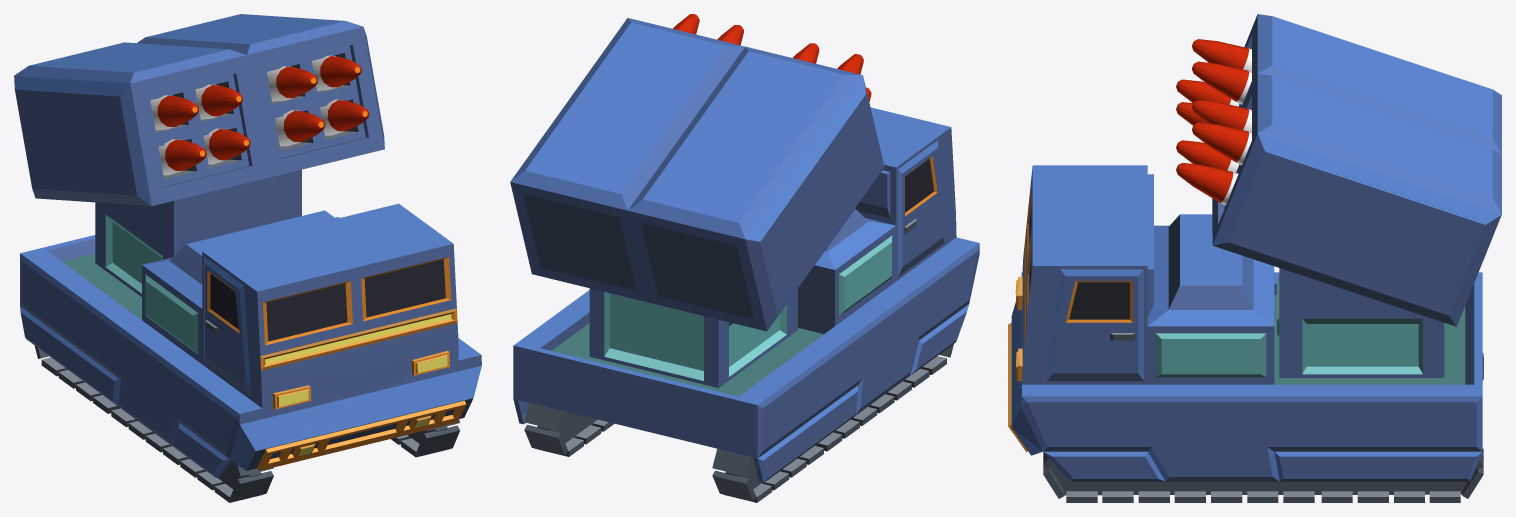
File: Missle_Vehicles1_ver2.fbx
3 renders of one model, left to right at view 1: azimuth 30°, elevation 25°; view 2: azimuth 150°, elevation 25°; view 3: azimuth 270°, elevation 25°, orthographic. The views are drawn at different scales.
Visible parts, largest first — view 1: Missle_Vehicles, Missle, Tie7, Tie, Missile4, Missile7, Missile5, Missile6, Missile8, Missile11, Missile9, Missile10; view 2: Missle, Missle_Vehicles, Tie7, Tie; view 3: Missle_Vehicles, Missle, Tie, Missile9, Missile5, Missile6, Missile4, Missile8, Missile7, Missile11.
Boxes of the visible parts, x1,y1,x2,y2 form: Missle_Vehicles: [20, 169, 481, 477]; Missle: [14, 14, 384, 206]; Tie7: [34, 345, 273, 502]; Tie: [391, 419, 460, 457]; Missile4: [267, 66, 317, 101]; Missile7: [275, 110, 325, 146]; Missile5: [312, 55, 361, 90]; Missile6: [320, 99, 369, 135]; Missile8: [150, 95, 198, 130]; Missile11: [158, 139, 206, 175]; Missile9: [195, 84, 242, 119]; Missile10: [203, 128, 250, 164]; Missle: [510, 18, 884, 331]; Missle_Vehicles: [513, 107, 979, 482]; Tie7: [712, 344, 953, 502]; Tie: [524, 403, 614, 456]; Missle_Vehicles: [1008, 165, 1482, 481]; Missle: [1212, 14, 1501, 326]; Tie: [1043, 448, 1483, 502]; Missile9: [1192, 61, 1251, 104]; Missile5: [1192, 122, 1251, 165]; Missile6: [1176, 163, 1238, 205]; Missile4: [1192, 100, 1251, 132]; Missile8: [1192, 39, 1251, 71]; Missile7: [1176, 140, 1239, 172]; Missile11: [1176, 79, 1239, 106].
Size of the model in its own units: 162 by 223 by 266.
